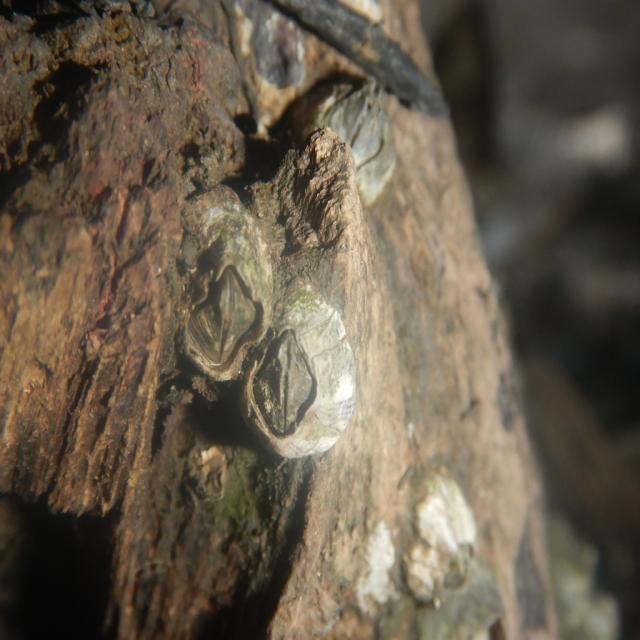barnacles: (241, 296, 366, 470), (180, 187, 270, 391), (309, 72, 401, 206)
